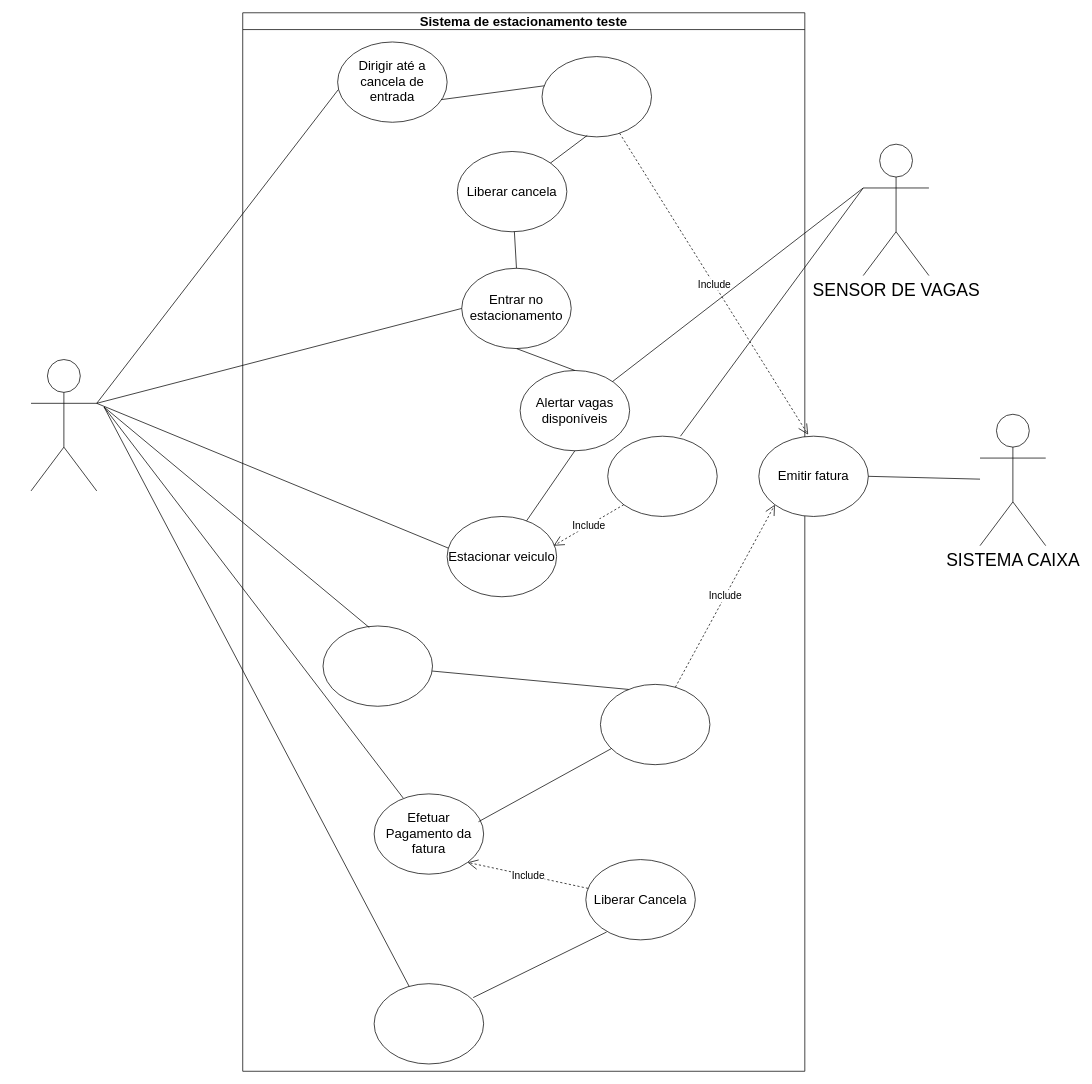
The diagram is 1092 pixels wide and 1084 high, and some of its shapes have lost their labels. Each missing label, with the centre of its shape:
"Dirigir até cancela de saída" belongs at (377,665).
"MOTORISTA" belongs at (63,425).
"Registrar entrada" belongs at (596,96).
"Registrar saída" belongs at (655,724).
"Registrar veiculo estacionado" belongs at (662,475).
"Sair do estacionamento" belongs at (428,1023).
